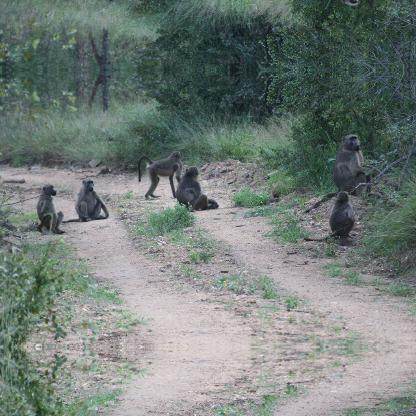Monkey: (301, 130, 373, 212), (306, 190, 356, 242), (137, 148, 185, 200), (62, 174, 112, 220), (175, 162, 217, 208), (38, 184, 70, 230)
